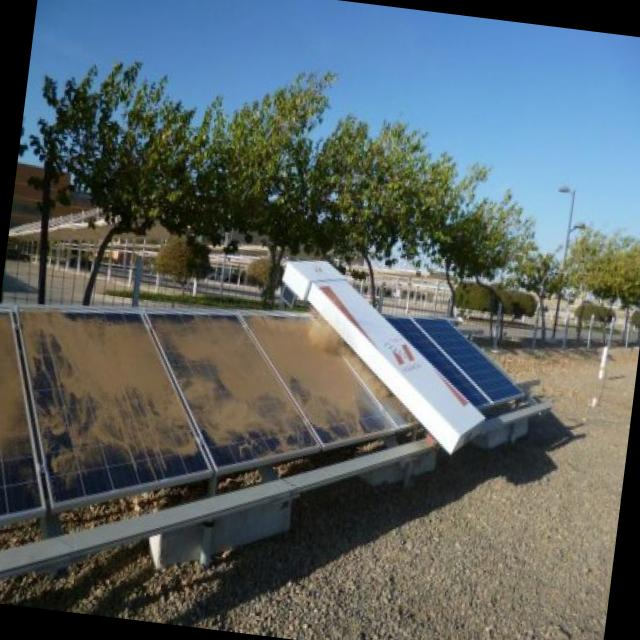faulty: (22, 311, 206, 496), (150, 317, 320, 467), (245, 314, 413, 435)
no faulty: (414, 319, 522, 401)
